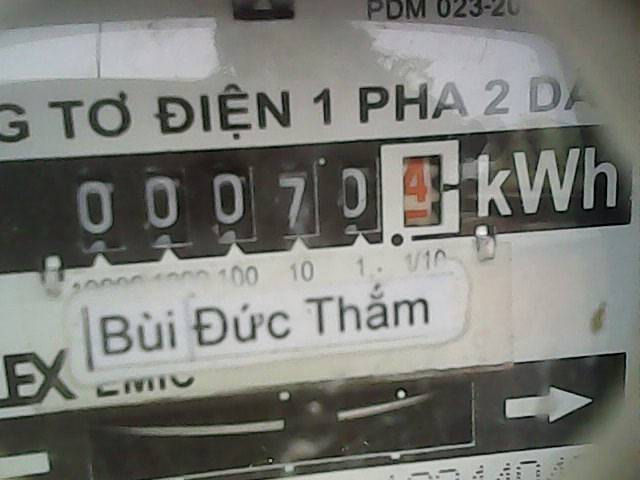phy_plate: (60, 132, 463, 255)
